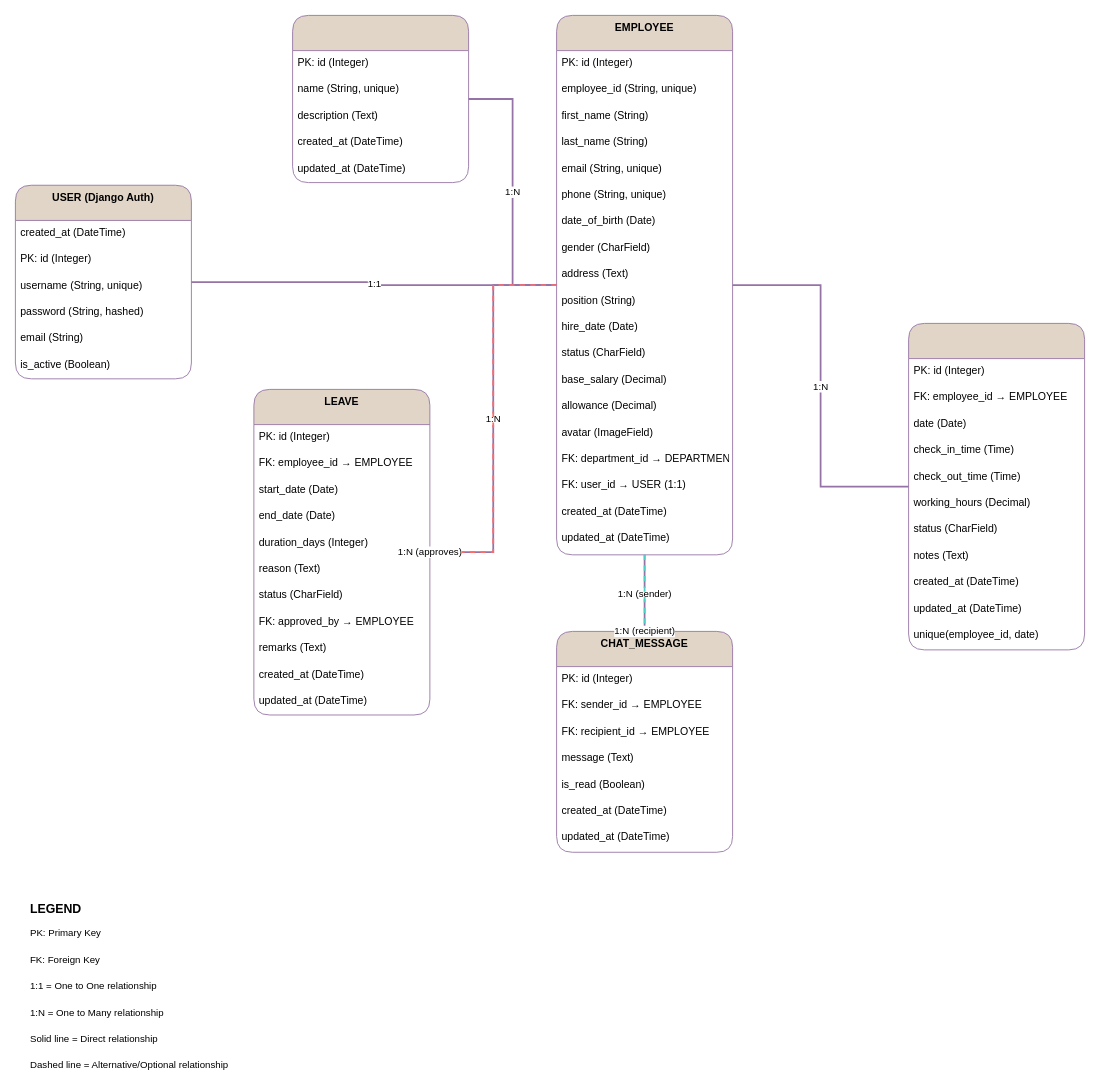
Image size: 1100x1087. Some labels were removed from this diagram. The shapes that lost their labels are listed below. From the top down, each one's box as (x1, y1, x2, y2) in pixels, then its label:
(292, 15, 469, 183): DEPARTMENT
(908, 323, 1085, 650): ATTENDANCE
